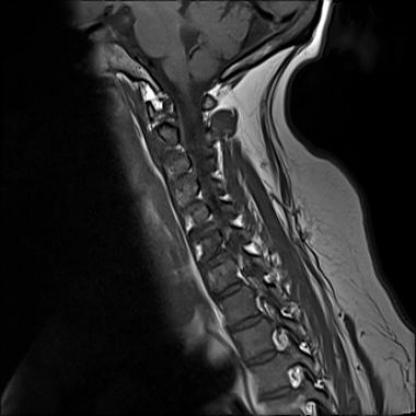Disc Herniationrotation: (185, 225, 223, 242)
Disc Protrusionrotation: (166, 170, 198, 189)
